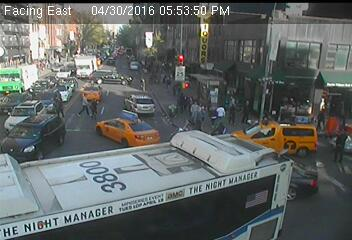neg: (262, 48, 296, 93), (26, 188, 59, 232), (273, 151, 306, 195), (111, 64, 133, 94), (31, 98, 52, 127), (165, 178, 185, 205), (134, 73, 153, 98), (118, 161, 136, 184), (115, 121, 126, 136)
pos: (328, 123, 351, 164), (73, 89, 95, 118), (236, 98, 258, 127), (86, 96, 103, 120)
